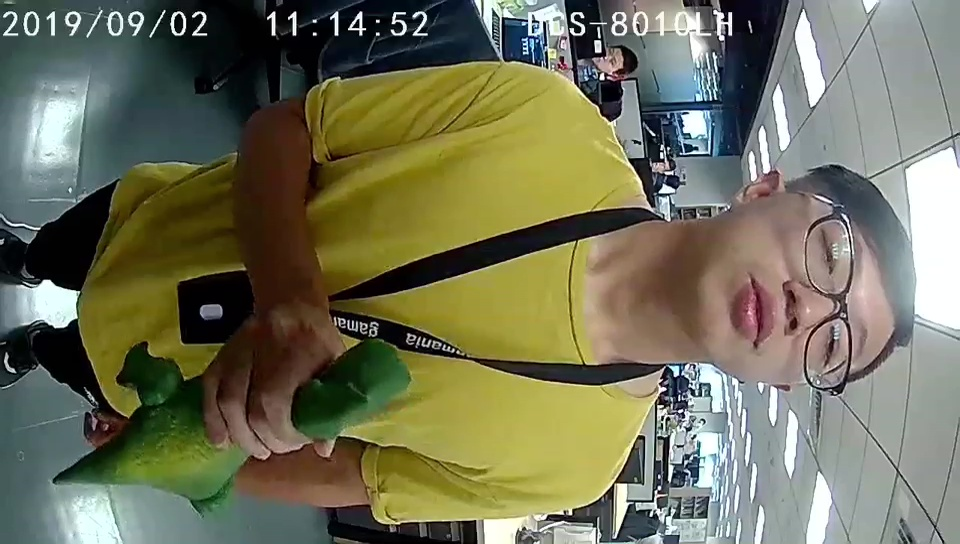rex: (133, 337, 407, 519)
